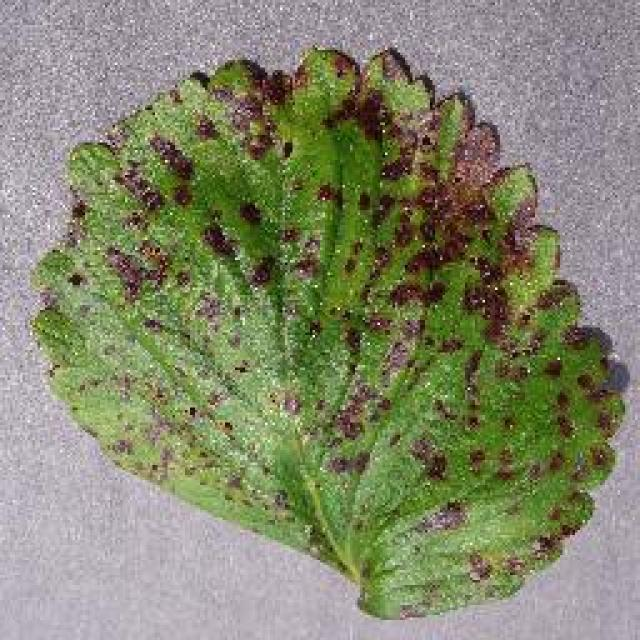Strawberry leaf scorch: (55, 60, 550, 560)
